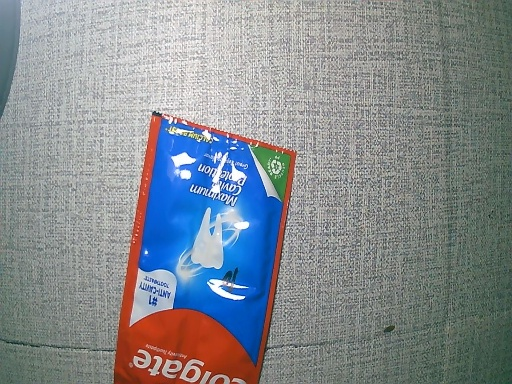plastic: (115, 109, 298, 384)
